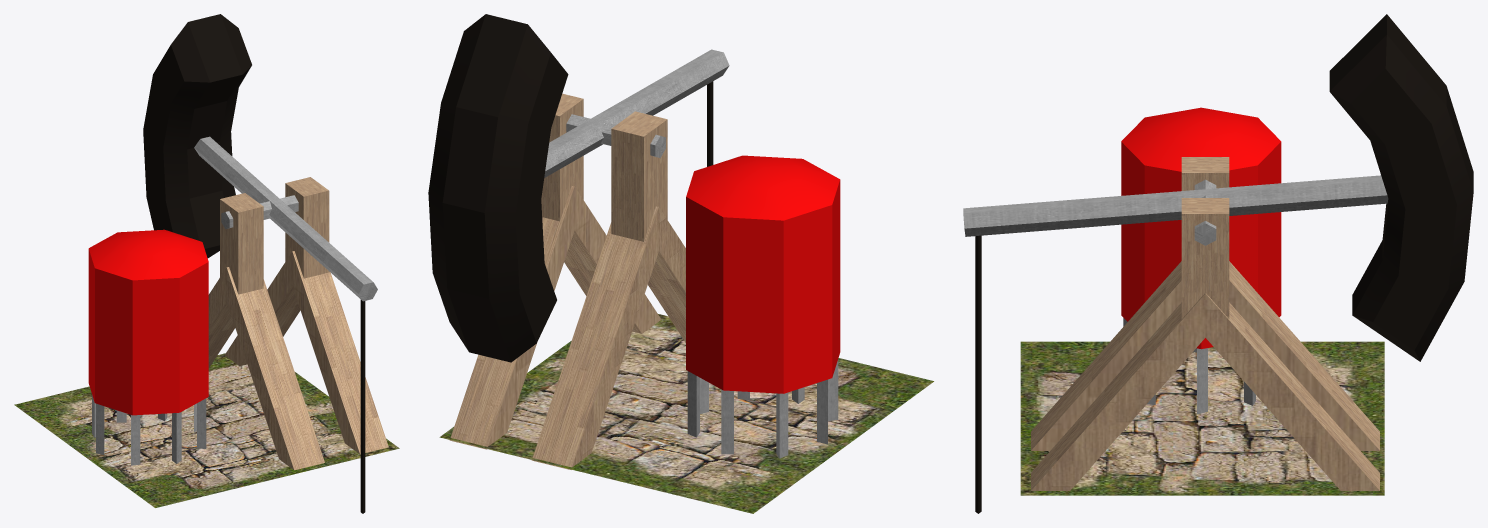
File: mine-factory-02.obj
3 renders of one model, left to right at view 1: azimuth 30°, elevation 25°; view 2: azimuth 150°, elevation 25°; view 3: azimuth 270°, elevation 25°, orthographic. The views are drawn at different scales.
Size of the model in its own units: 2 by 2.96 by 2.8.
5 materials, 3 textured.
